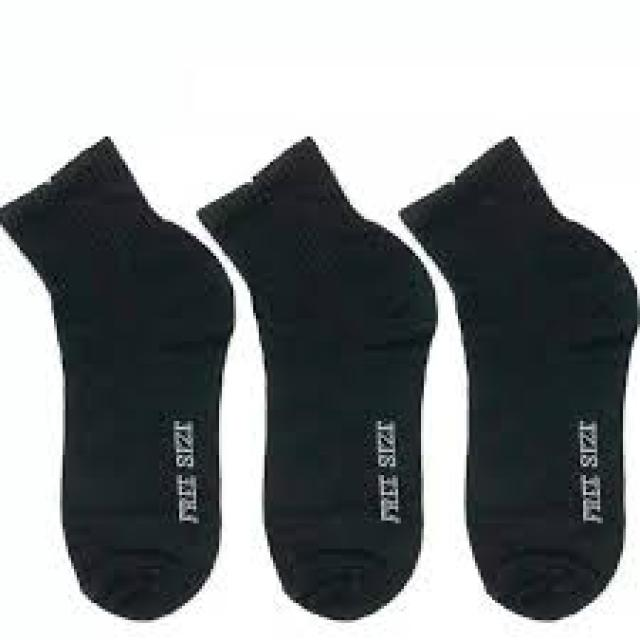sock: (193, 134, 438, 620), (396, 134, 638, 620), (0, 134, 233, 620)
